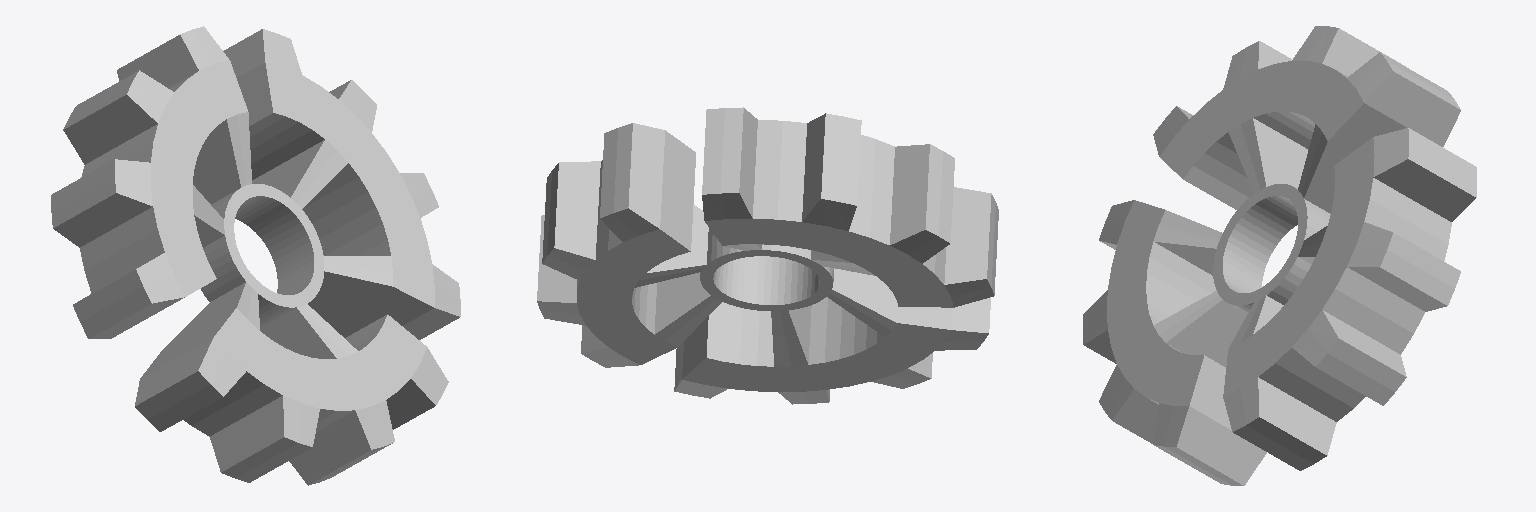
The model's file is CopperGearMesh.obj.
3 views of the same model, side by side, from view 1: azimuth 30°, elevation 25°; view 2: azimuth 150°, elevation 25°; view 3: azimuth 270°, elevation 25° (orthographic).
Parts seen in each view (by area): view 1: Copper_Gear; view 2: Copper_Gear; view 3: Copper_Gear.
Part boxes in pixels (x1,y1,x2,y2): Copper_Gear: (51, 26, 460, 485); Copper_Gear: (537, 107, 998, 404); Copper_Gear: (1083, 26, 1476, 485).
Size of the model in its own units: 2.09 by 1.9 by 1.77.